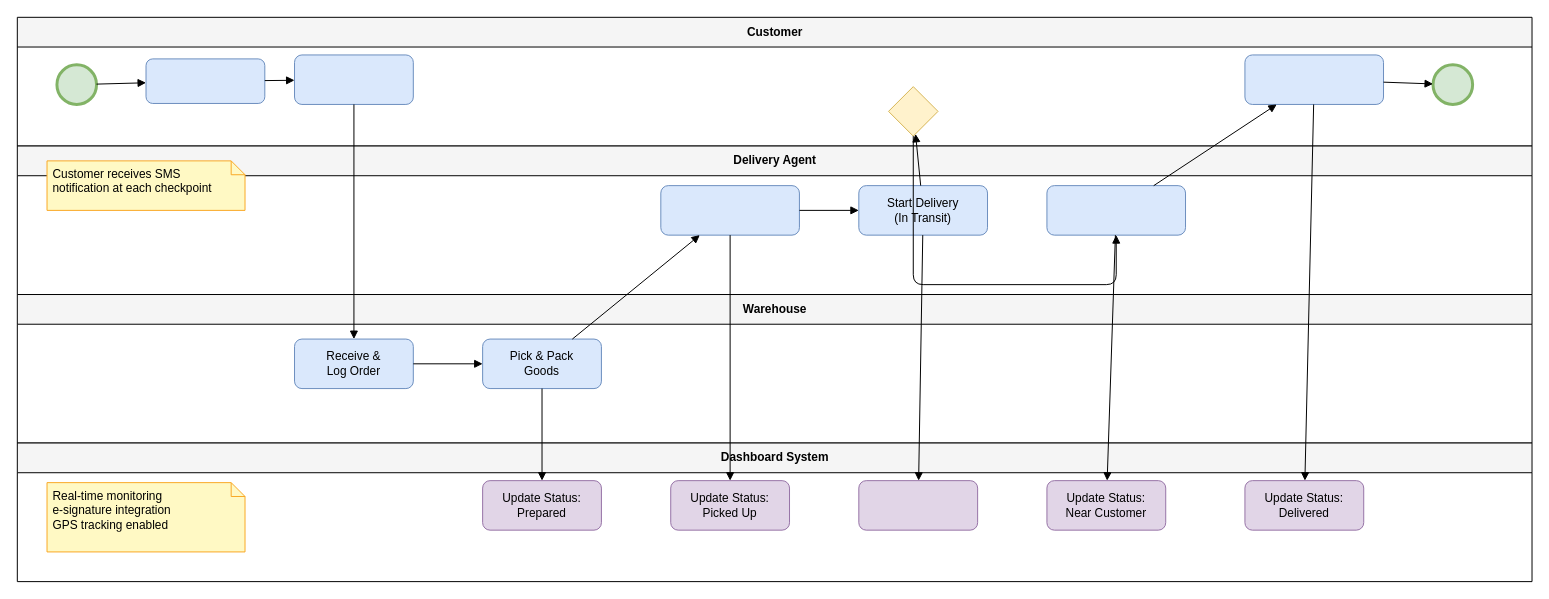
Image size: 1549x599. Some labels were removed from this diagram. Each missing label, with the centre of its shape:
Arrive at Customer Location: point (1116, 210)
Pick Up Goods from Warehouse: point (729, 210)
Place Order: point (205, 80)
Receive Goods & Digital Signature: point (1314, 79)
Receive Order Confirmation: point (353, 79)
Update Status: In Transit: point (918, 505)
